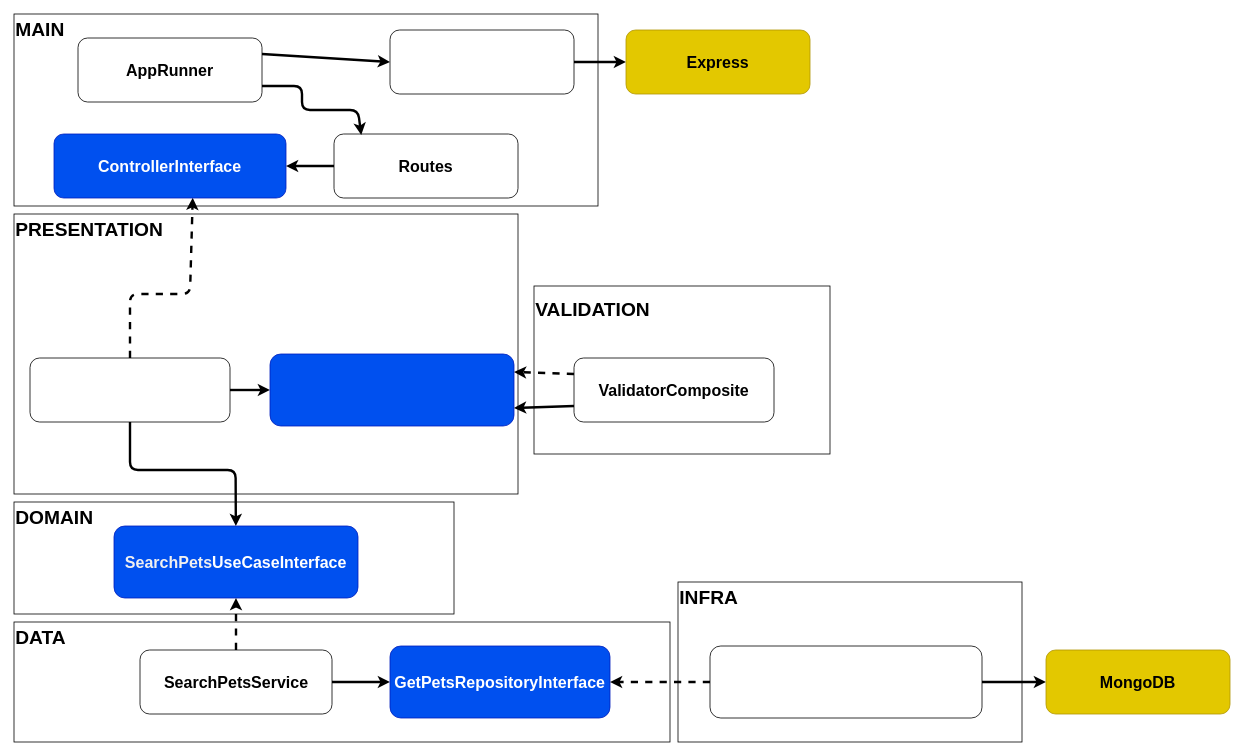
Some shapes in this 1244 by 756 pixel diagram are drawn without their labels. Each missing label, with the centre of its shape:
"ExpressAdapter" belongs at point 481,61.
"PetMongoDBRepository" belongs at point 845,681.
"SearchPetsController" belongs at point 129,389.
"ValidatorInterface" belongs at point 391,389.
